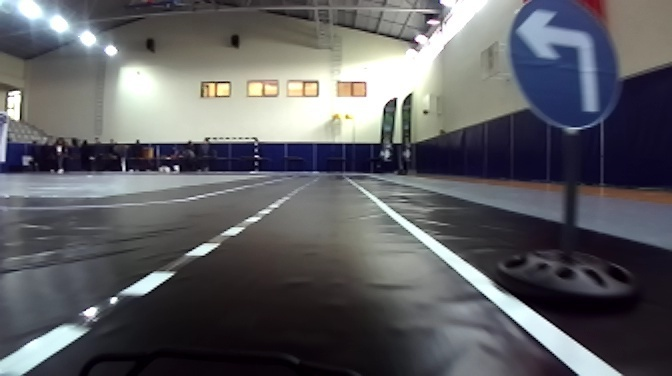sola_donus: (493, 1, 626, 130)
